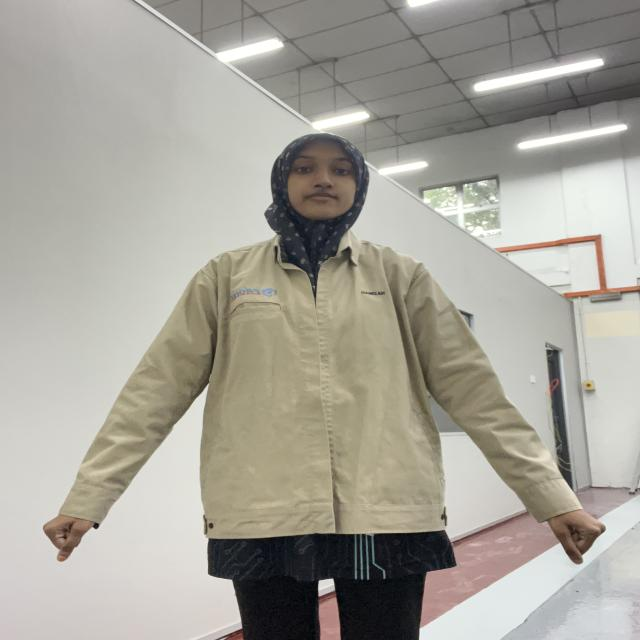person_with_labcoat: (44, 134, 605, 640)
